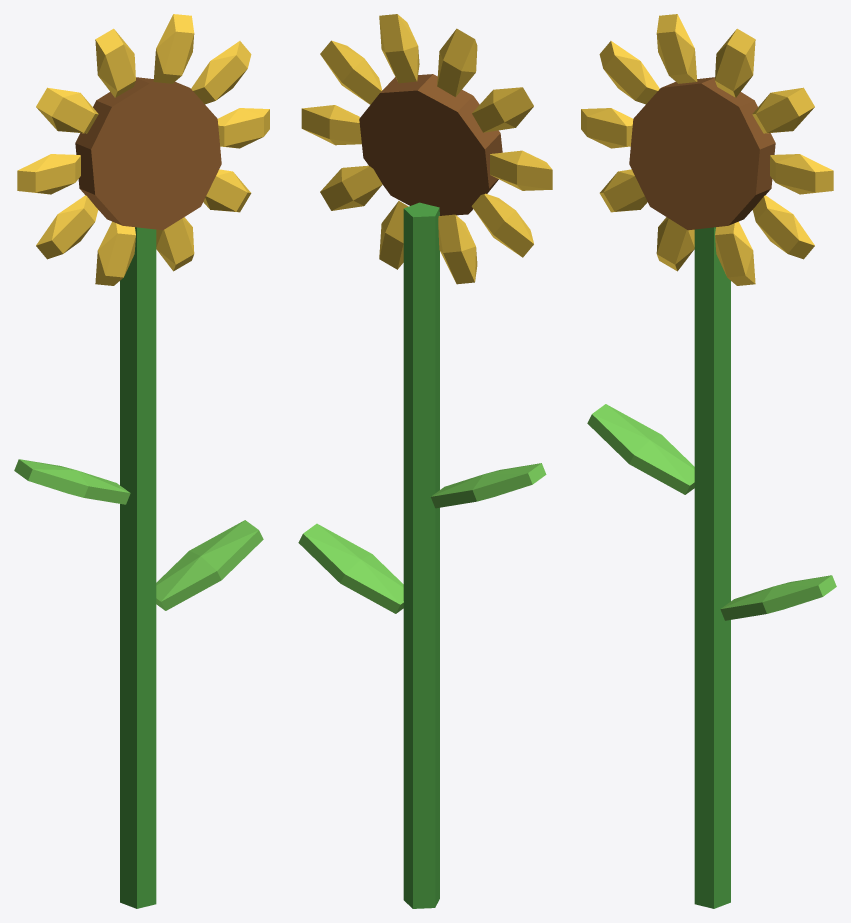
Rendered from prop_sunflower.glb.
3 views of the same model, side by side, from view 1: azimuth 30°, elevation 25°; view 2: azimuth 150°, elevation 25°; view 3: azimuth 330°, elevation 25° (orthographic).
Parts seen in each view (by area): view 1: prop_sunflower; view 2: prop_sunflower; view 3: prop_sunflower.
Part boxes in pixels (<box>): prop_sunflower: <box>14,14,269,908</box>; prop_sunflower: <box>298,14,552,908</box>; prop_sunflower: <box>581,14,836,908</box>.
Bounding box in the file's own units: 0.4553 × 1.52 × 0.1188.
